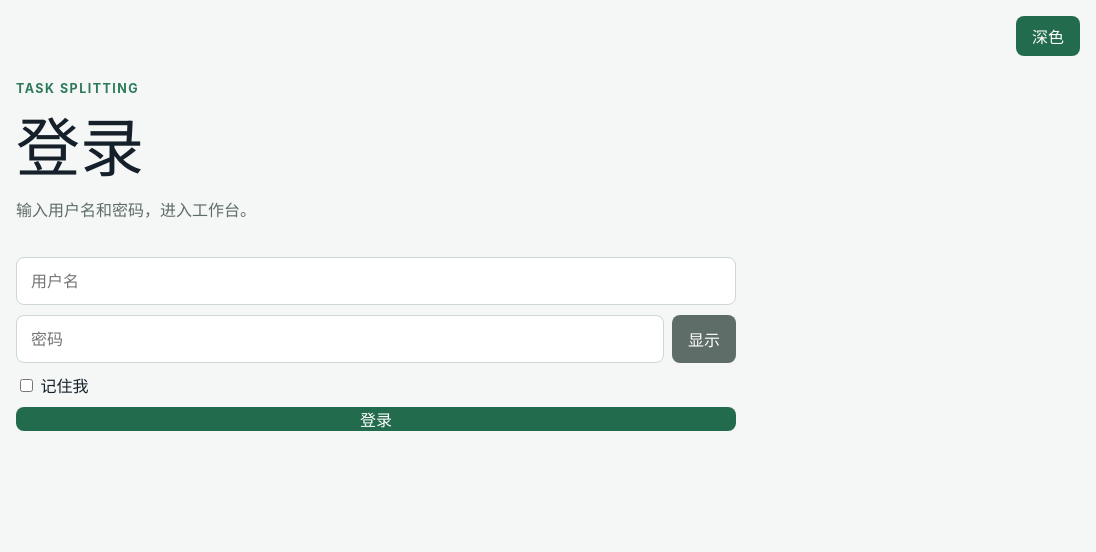
Test case: T00301 个人中心头像上传 › 未选择文件时上传按钮禁用
Type "alice" into the field with placeholder "用户名". click: point(376, 281)
box: left=16, top=257, right=736, bottom=305
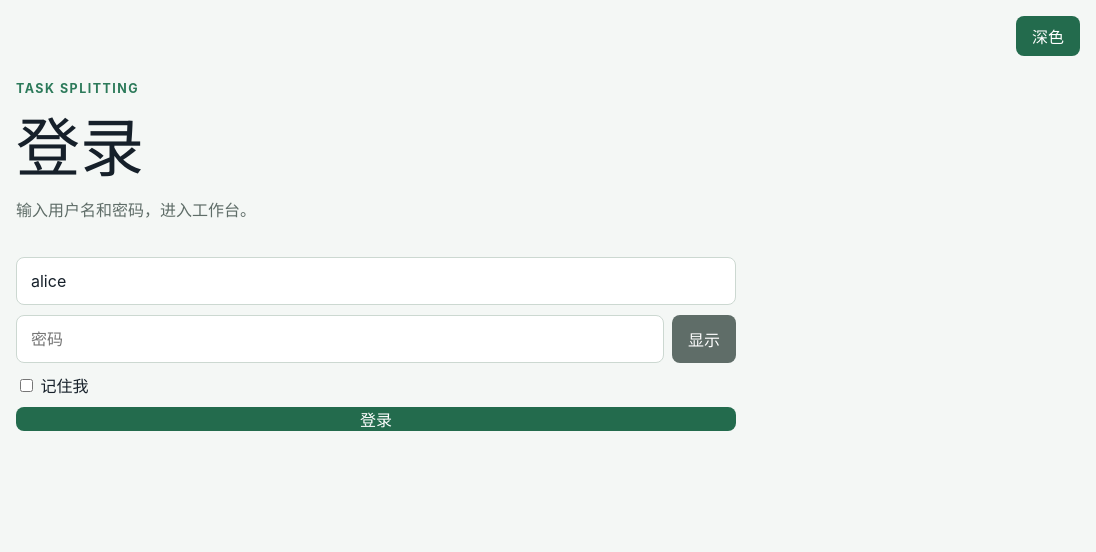
Type "secret" into the password field with placeholder "密码". click: point(340, 339)
box: left=16, top=315, right=664, bottom=363
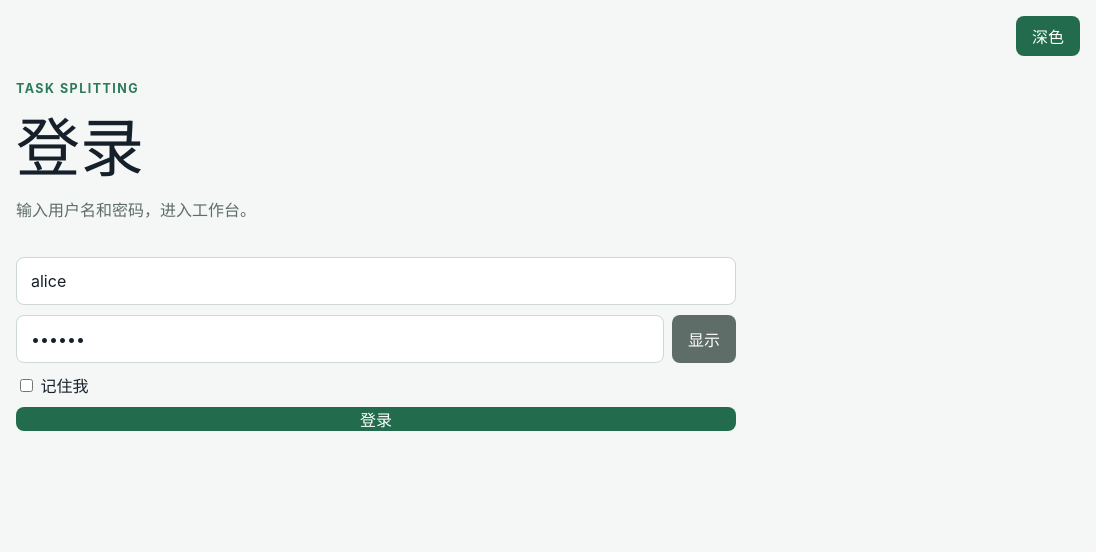
Submit the form from the button "登录", box left=16, top=407, right=736, bottom=431
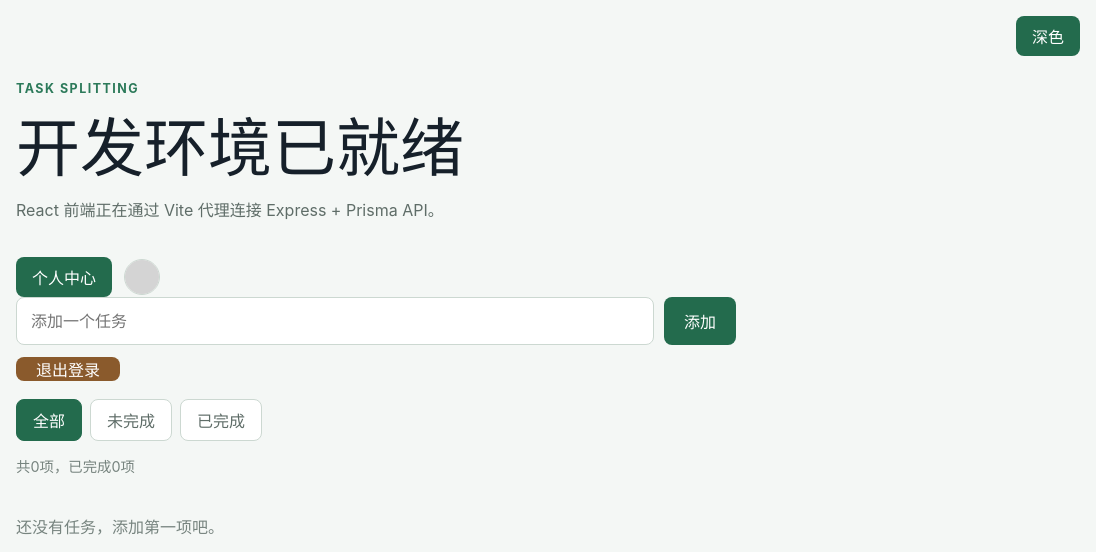
Click the button "个人中心". click: point(64, 277)
box: left=16, top=257, right=112, bottom=297
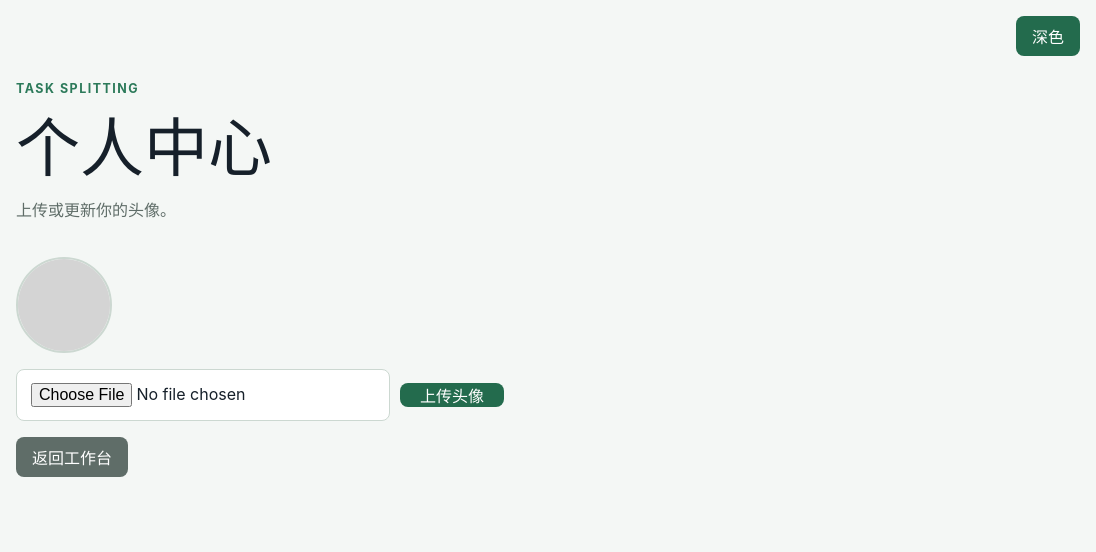
Result: the button "上传头像" is disabled at left=400, top=383, right=504, bottom=407
